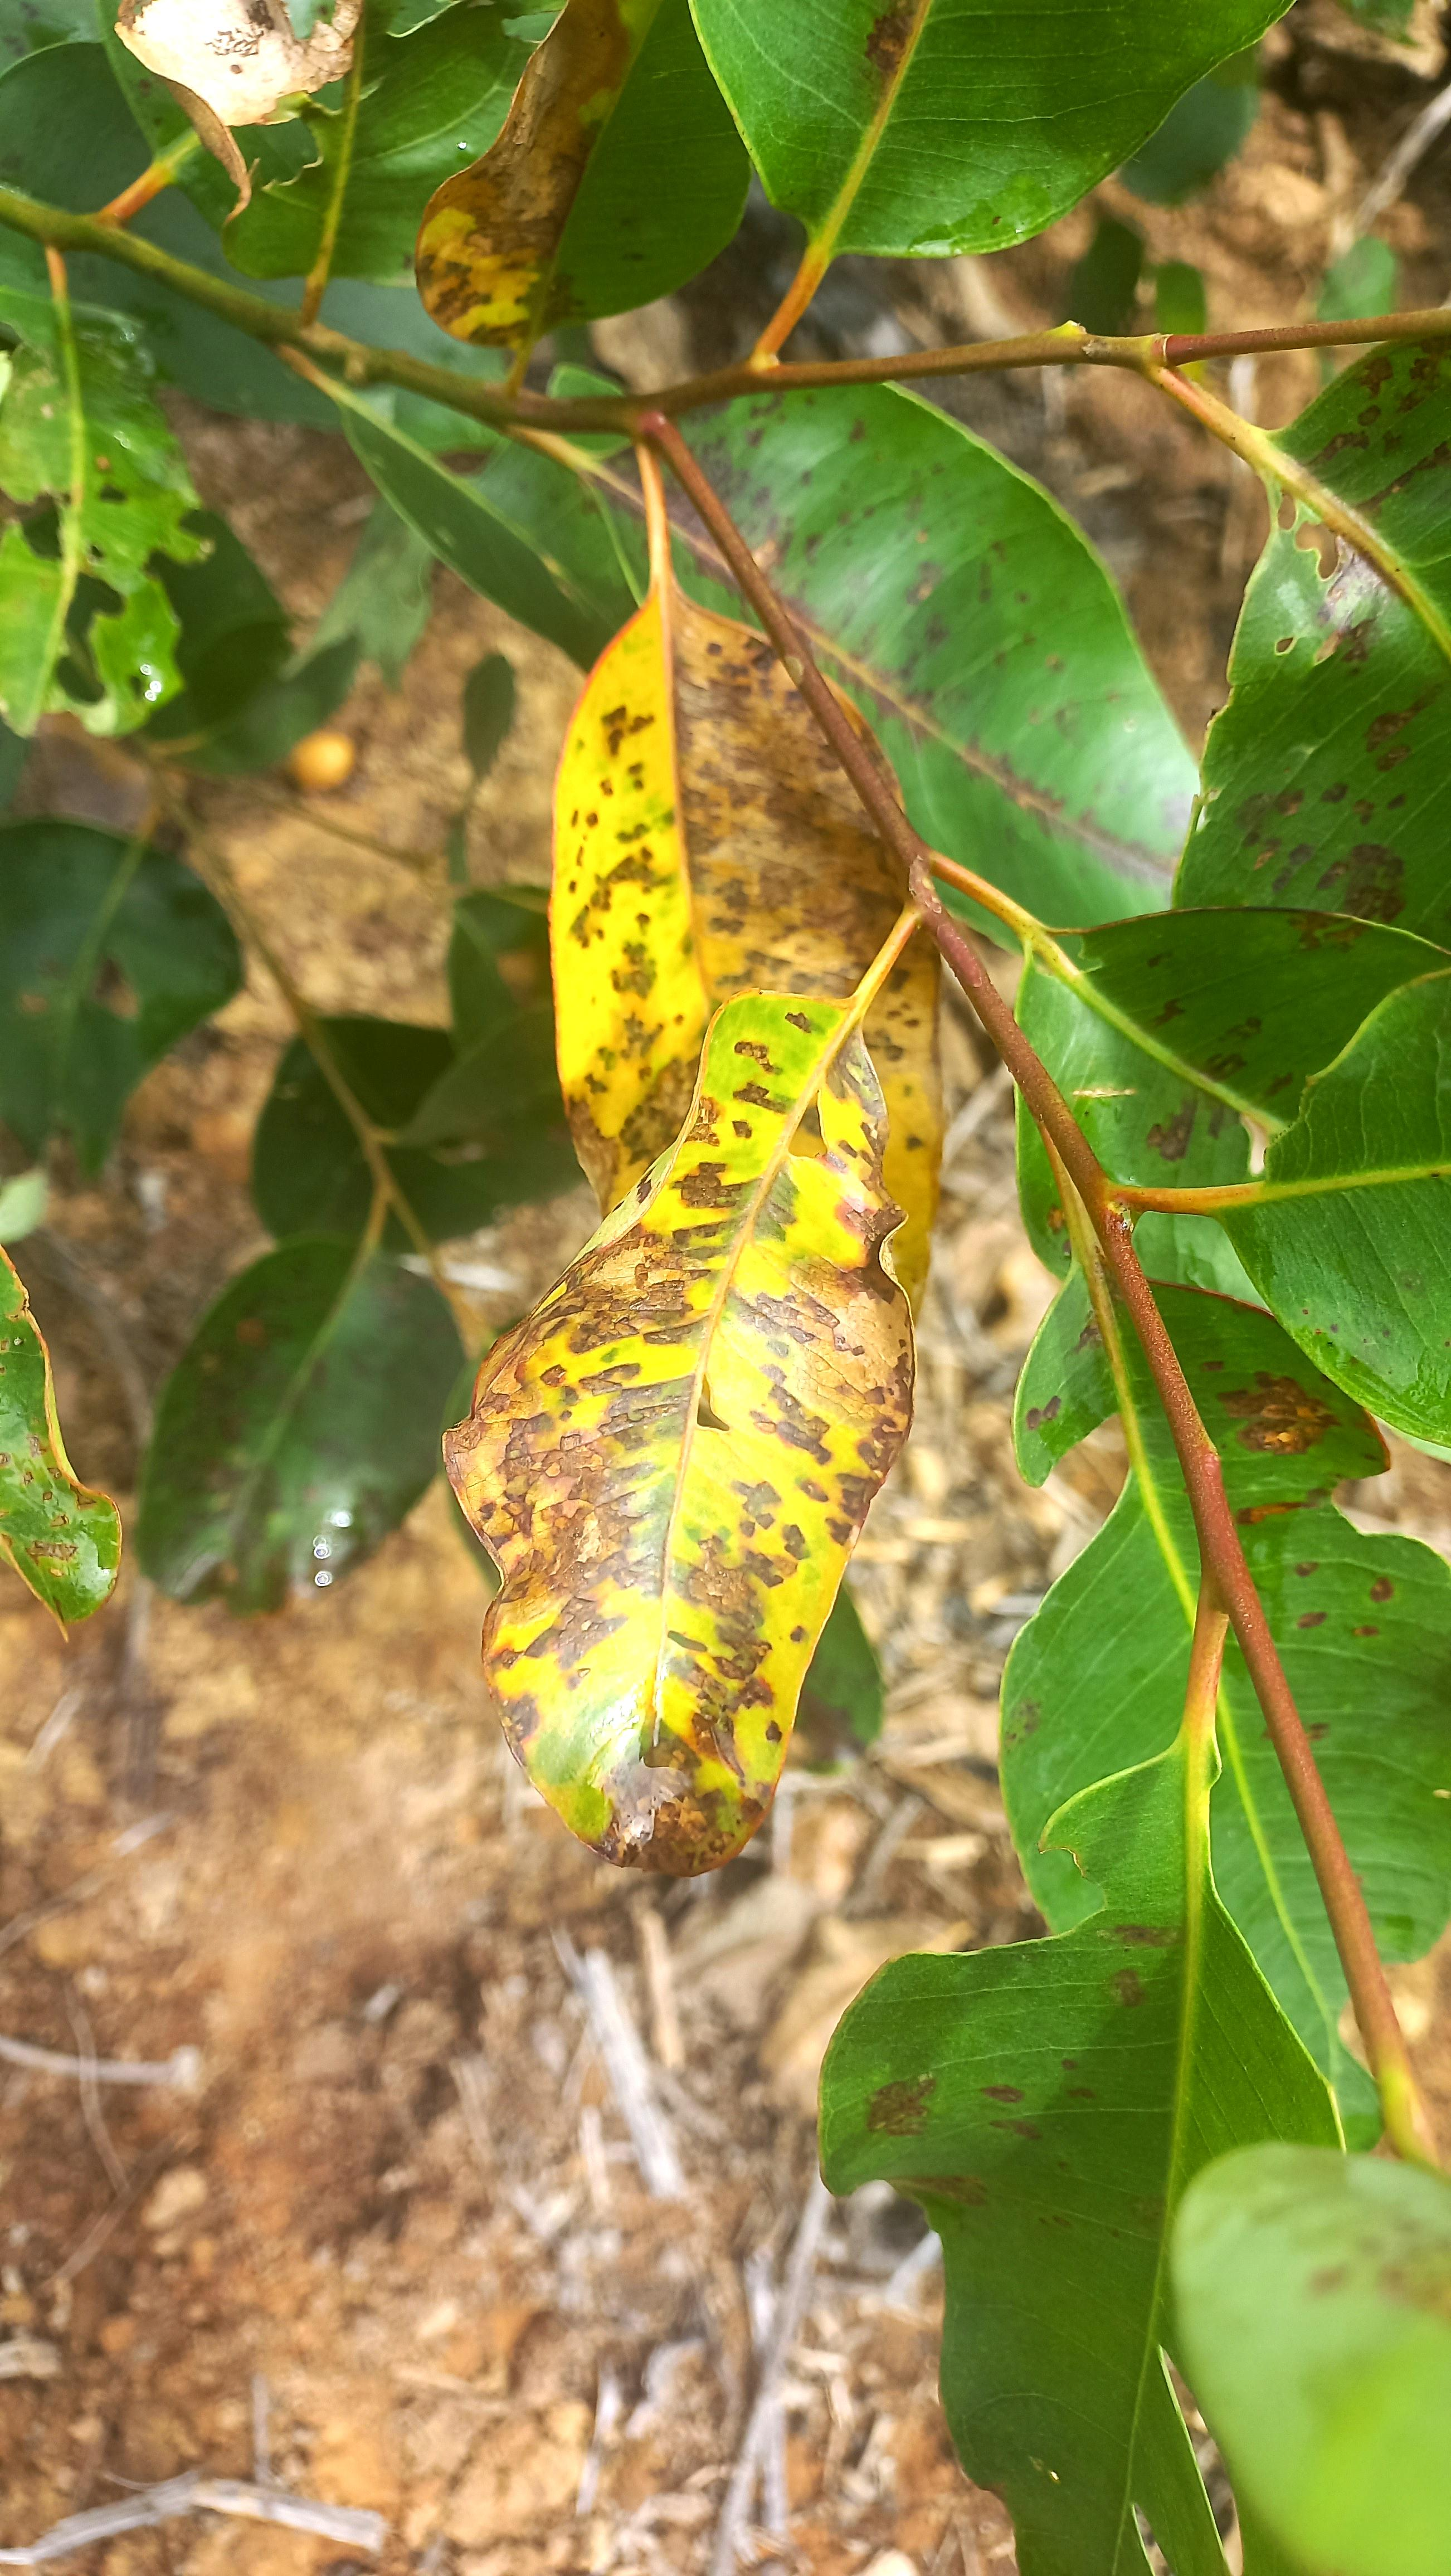Xanthomonas: (536, 598, 922, 1808)
